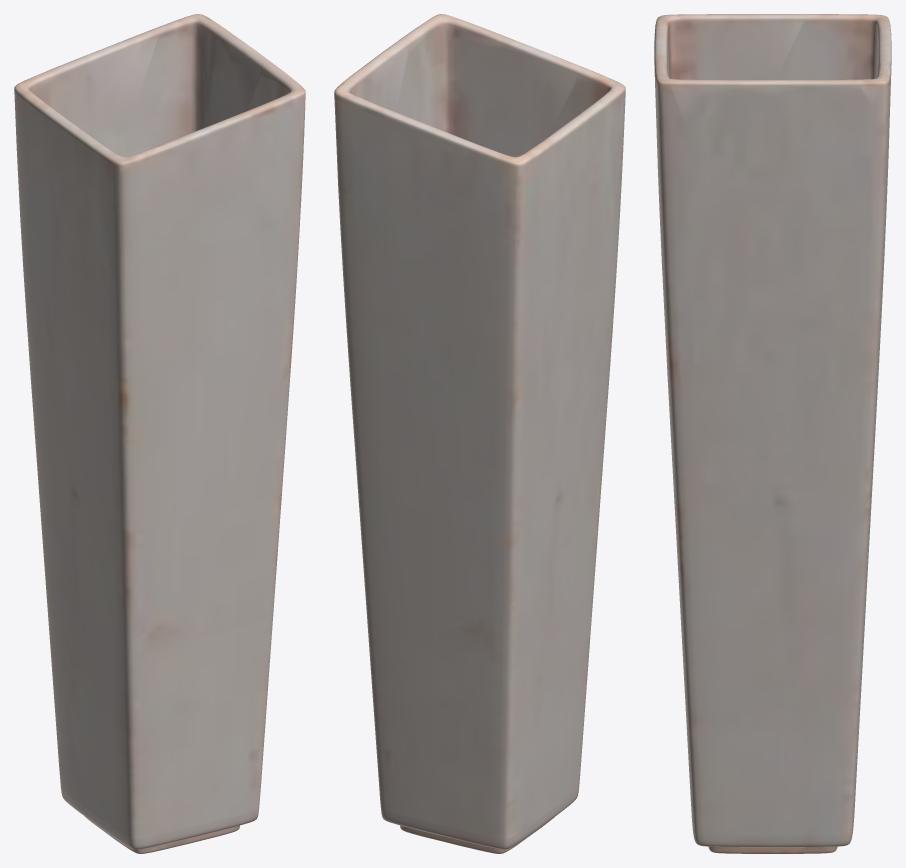
The model's file is ceramic_vase_03.glb.
3 renders of one model, left to right at view 1: azimuth 30°, elevation 25°; view 2: azimuth 150°, elevation 25°; view 3: azimuth 270°, elevation 25°, orthographic. The views are drawn at different scales.
Visible parts, largest first — view 1: ceramic_vase_03; view 2: ceramic_vase_03; view 3: ceramic_vase_03.
Part boxes in pixels (bbox=[...]): ceramic_vase_03: bbox=[14, 14, 305, 853]; ceramic_vase_03: bbox=[334, 14, 625, 853]; ceramic_vase_03: bbox=[654, 14, 891, 853].
Bounding box in the file's own units: 0.1122 × 0.4143 × 0.1122.
1 material, 1 textured.
